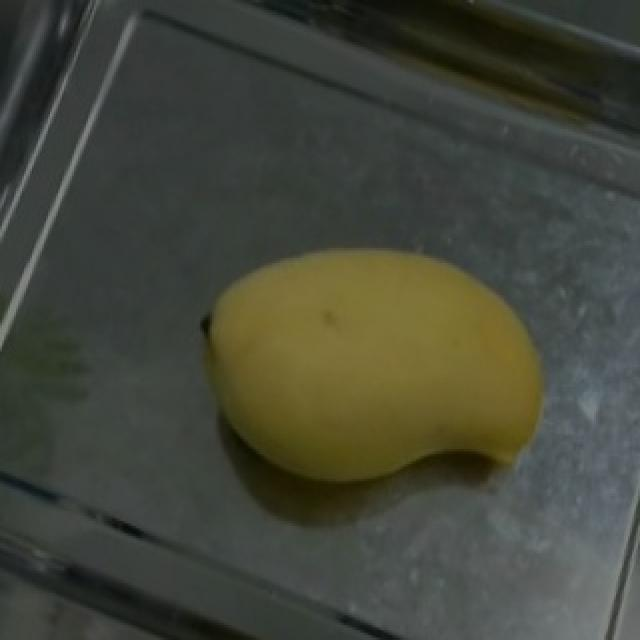fruit: (158, 166, 596, 536)
